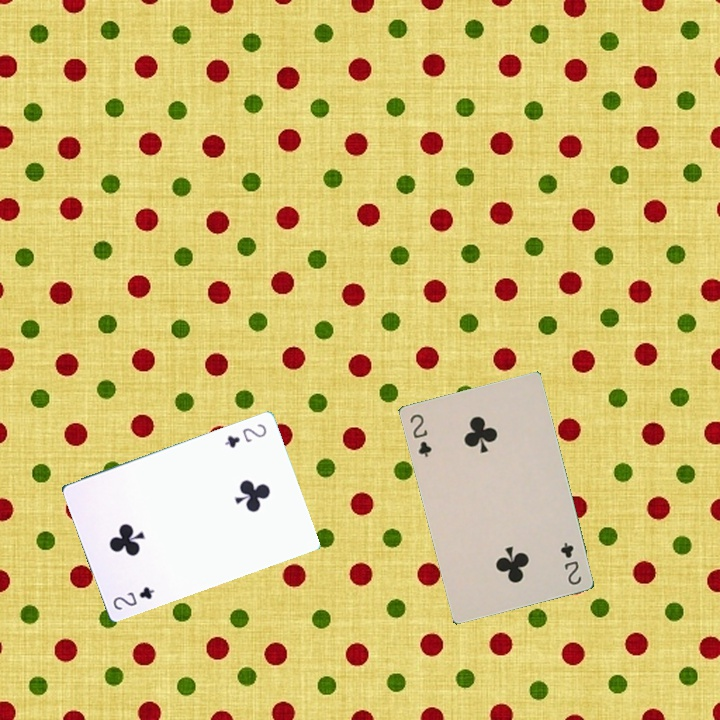2c: (221, 420, 269, 451), (109, 582, 157, 613), (406, 410, 434, 460), (556, 538, 584, 587)
